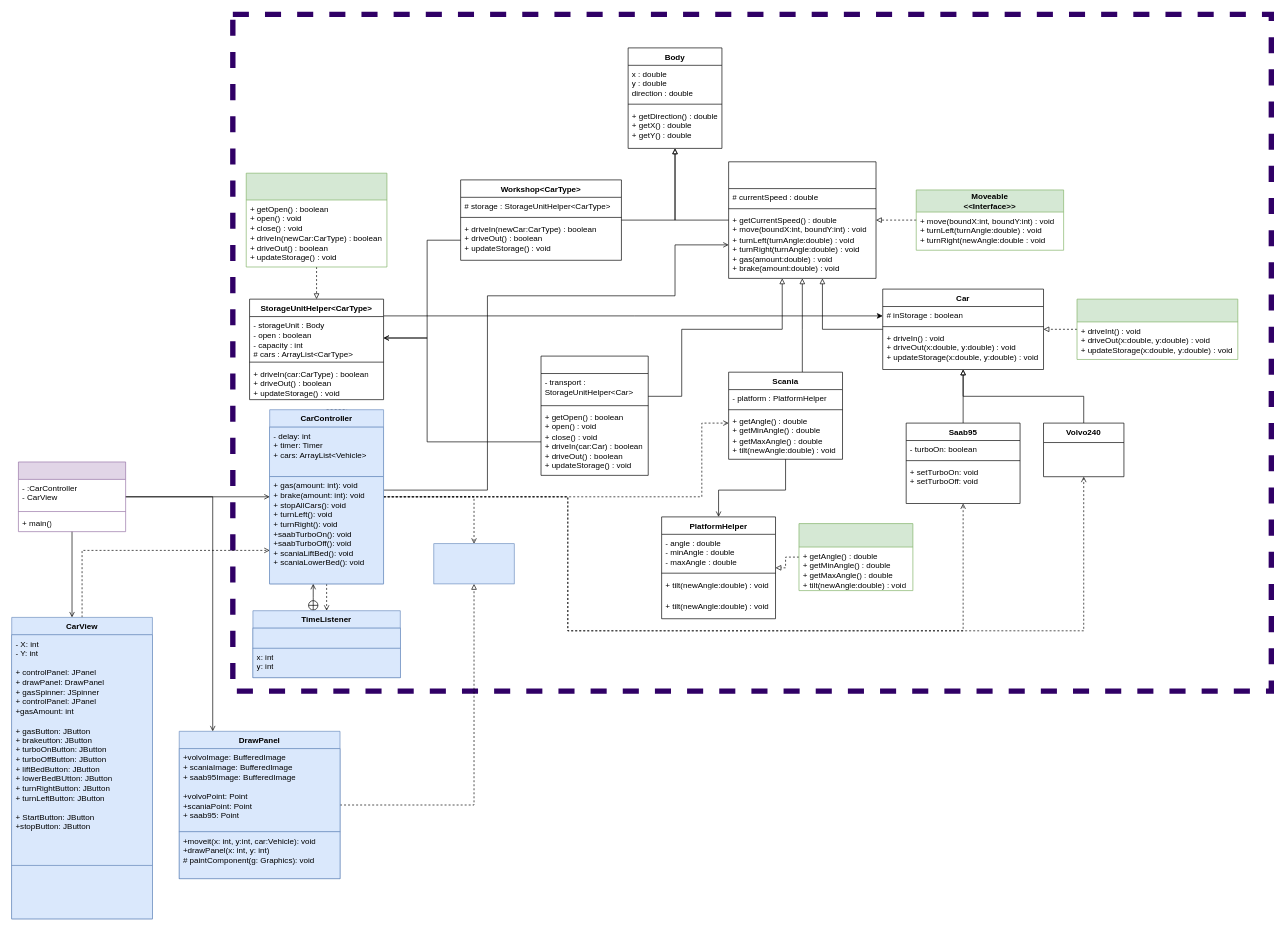
Some shapes in this 1286 by 932 pixel diagram are drawn without their labels. Each missing label, with the box of its shape:
+actionPerformed(e: ActionEvent: void: (252, 627, 400, 648)
+getX(): int +getY(): int -initComponents(title: String): void{: (11, 865, 152, 919)
Application: (18, 461, 126, 532)
Listener <<Interface>>: (433, 543, 514, 584)
LongTrailer: (540, 355, 648, 475)
Platform <<Interface>>: (798, 523, 913, 591)
StorageUnit<CarType> <<Interface>>: (246, 173, 387, 267)
Storeable <<Interface>>: (1076, 298, 1238, 359)
Vehicle <<Abstract>>: (728, 161, 876, 278)
